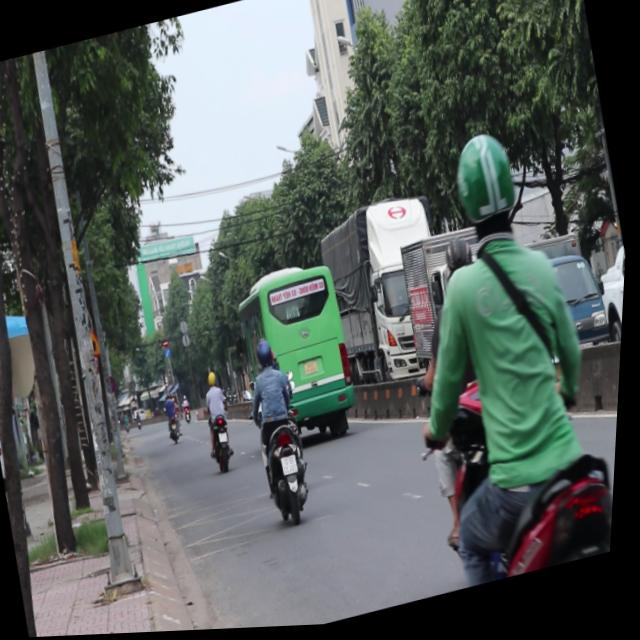helmet: (443, 127, 532, 251), (257, 336, 280, 370)
licenseplate: (359, 107, 635, 600), (236, 330, 329, 530)
nohelmet: (285, 455, 302, 477)
